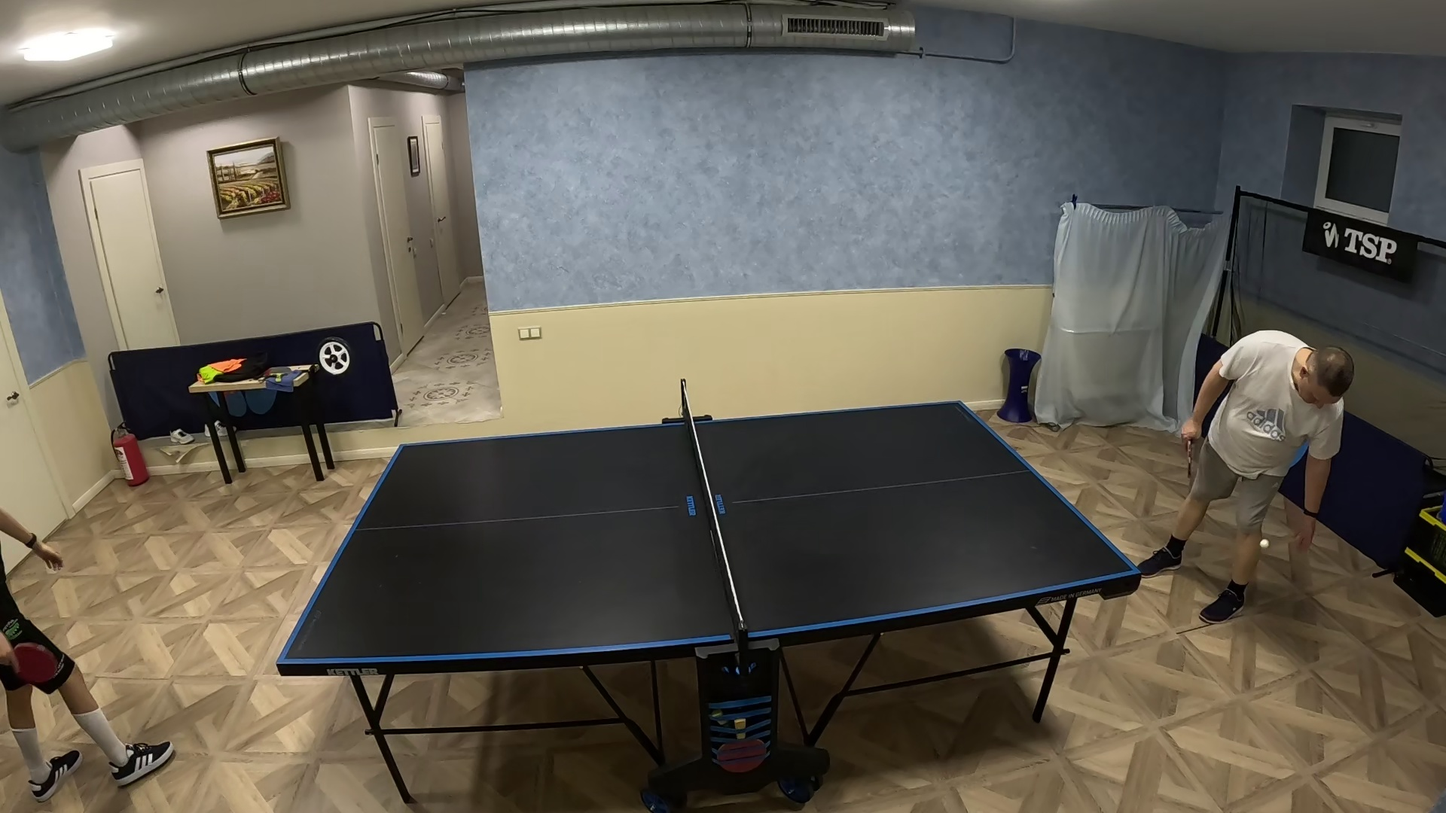Ball: (1259, 539, 1269, 548)
